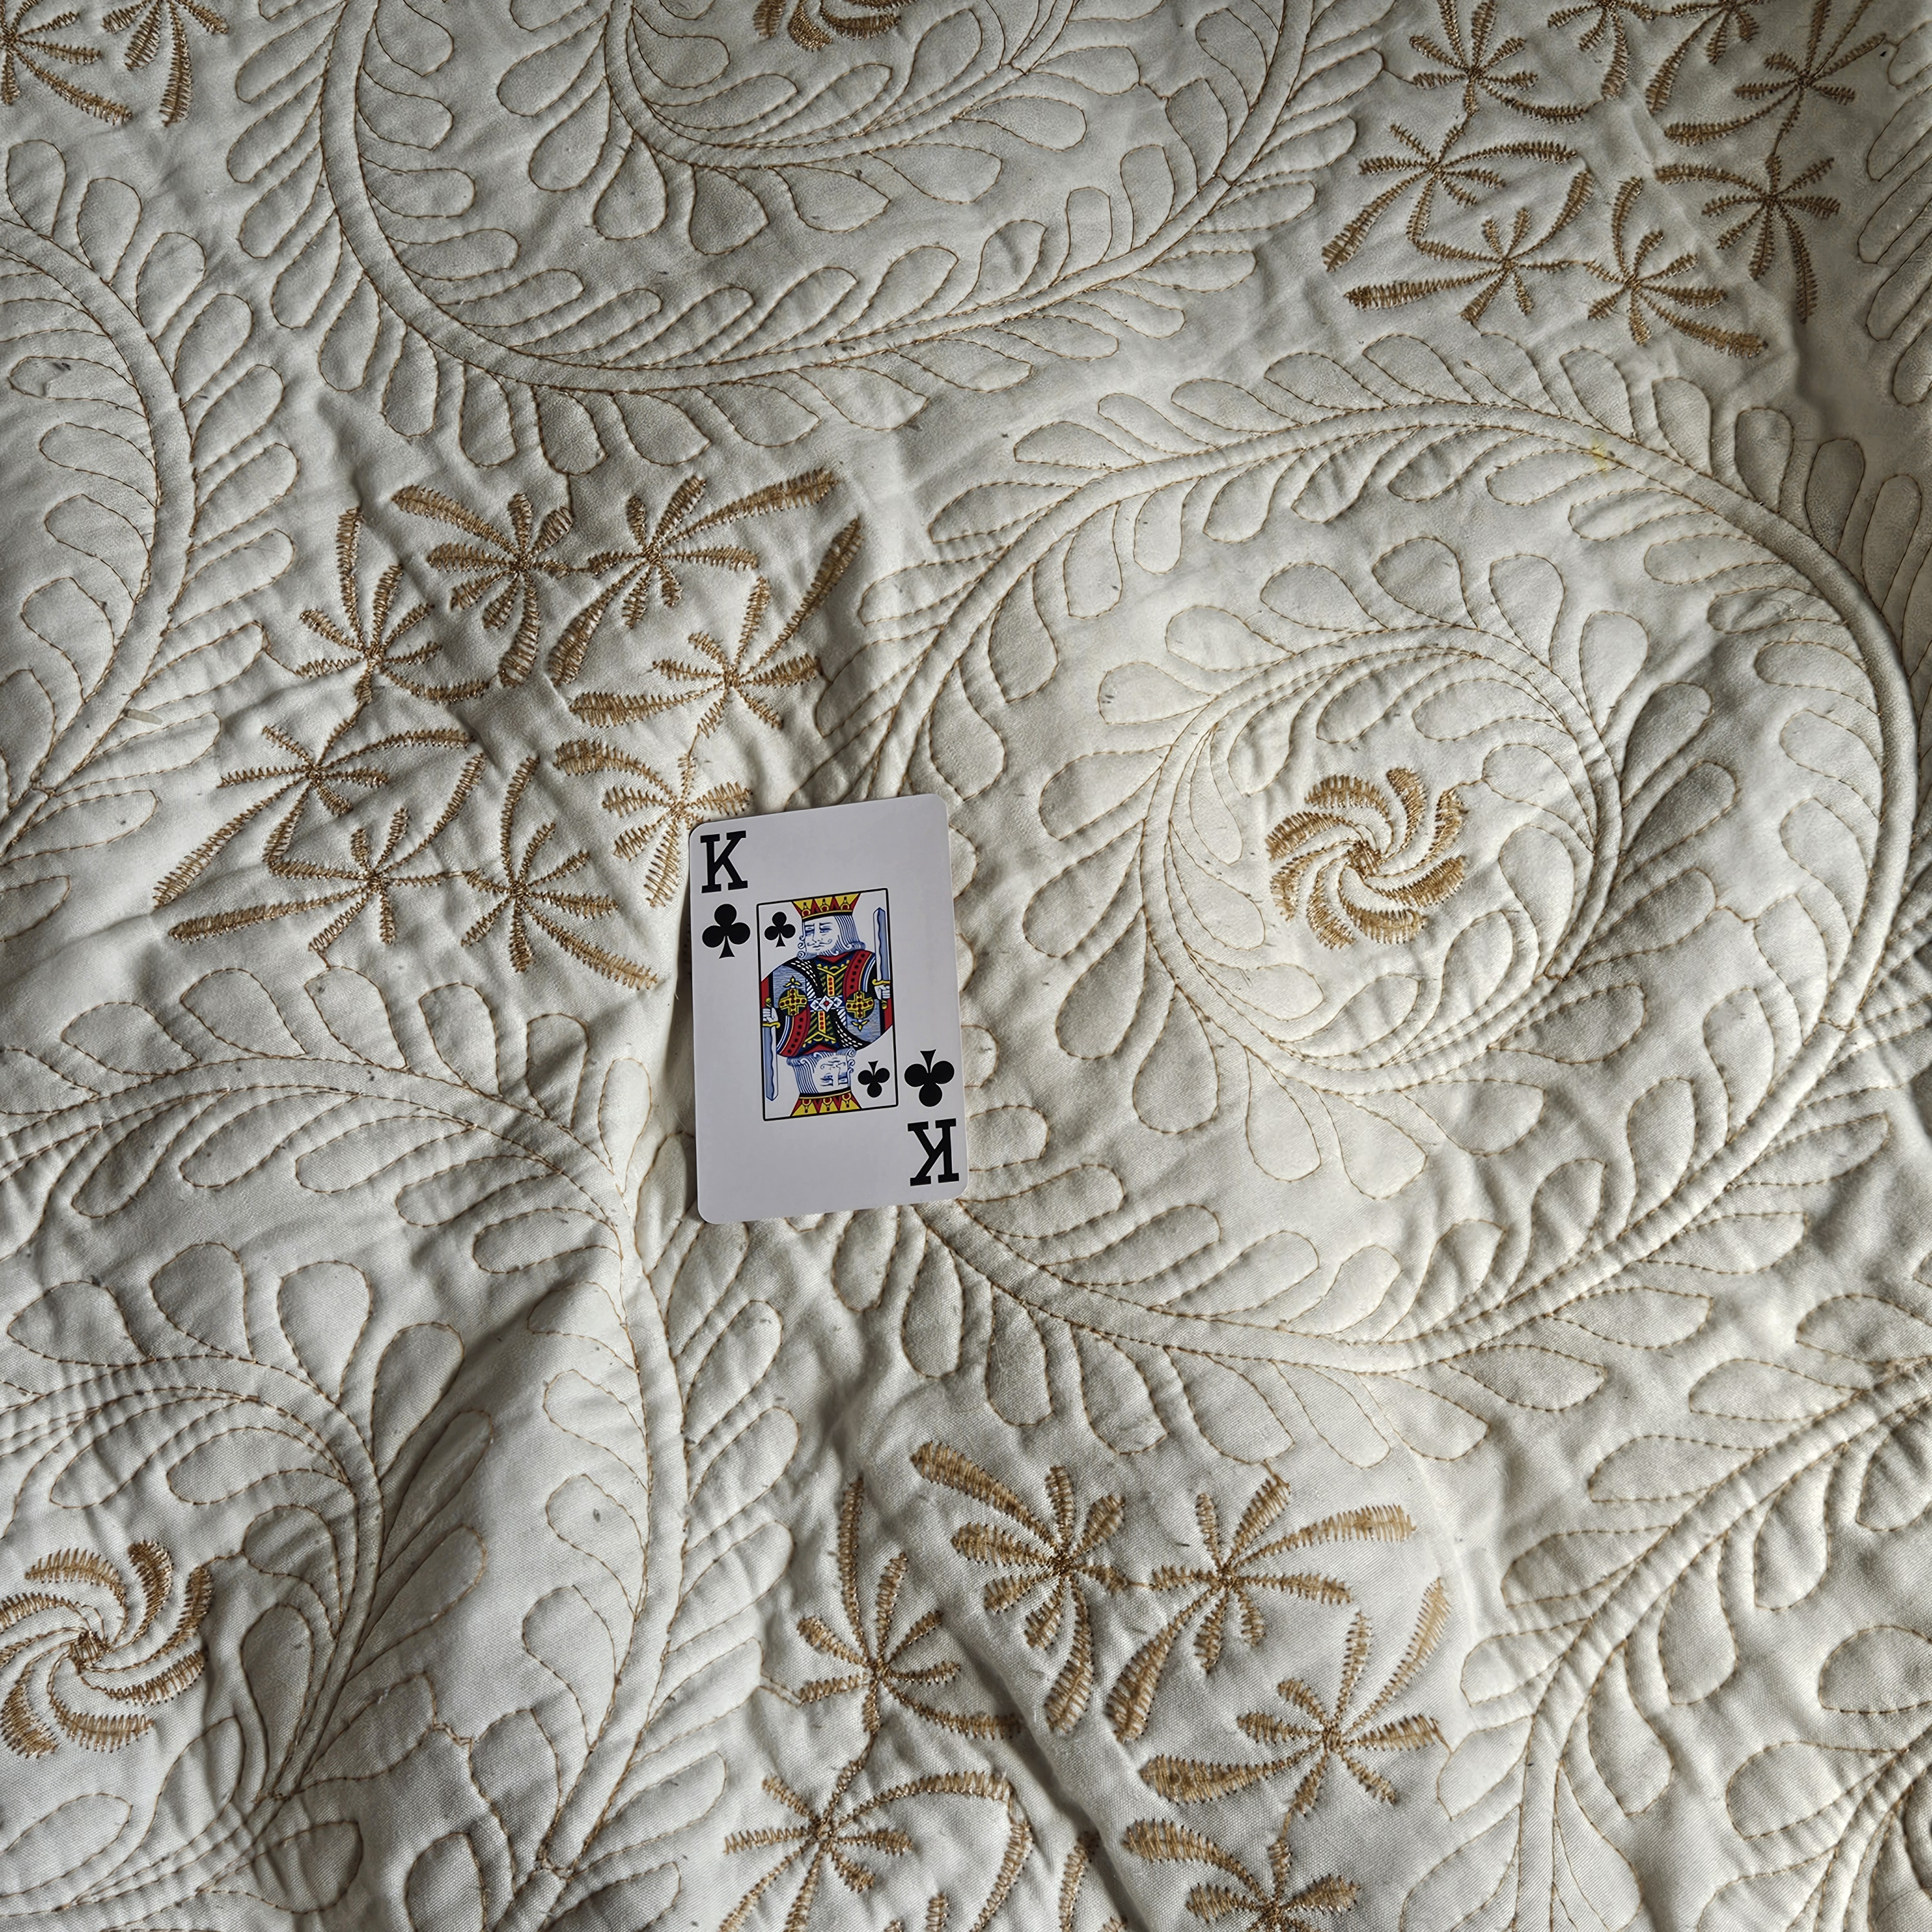KP: (895, 1040, 971, 1200), (685, 821, 761, 962)
